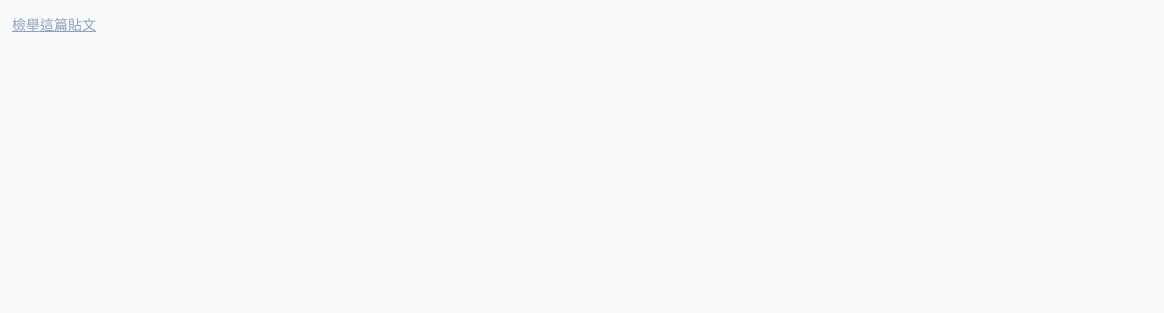
ReportButton › shows why a report was refused
The image size is (1164, 313).
Click the button "檢舉這篇貼文" at (54, 25), box [12,15,96,35]
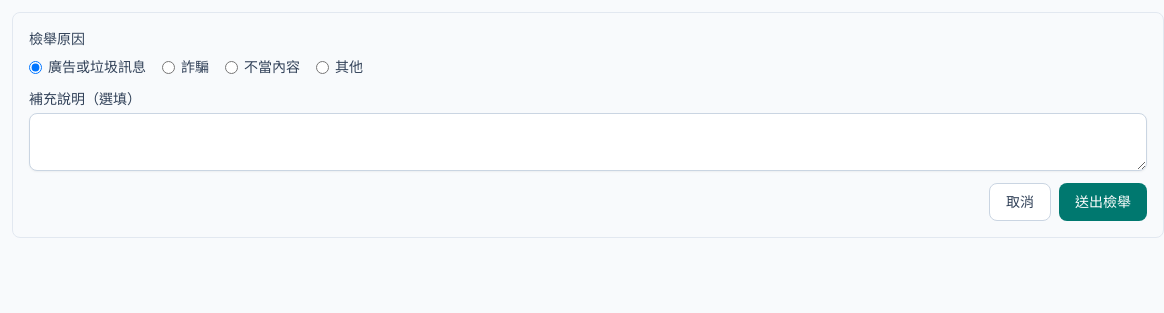
Click the button "送出檢舉" at (1103, 202), box [1059,183,1147,221]
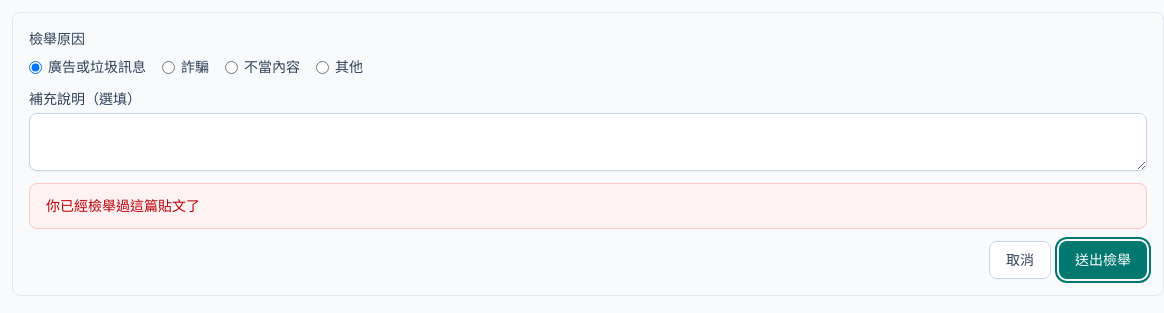
Now the message reads "你已經檢舉過這篇貼文了", box [46,196,200,215]
